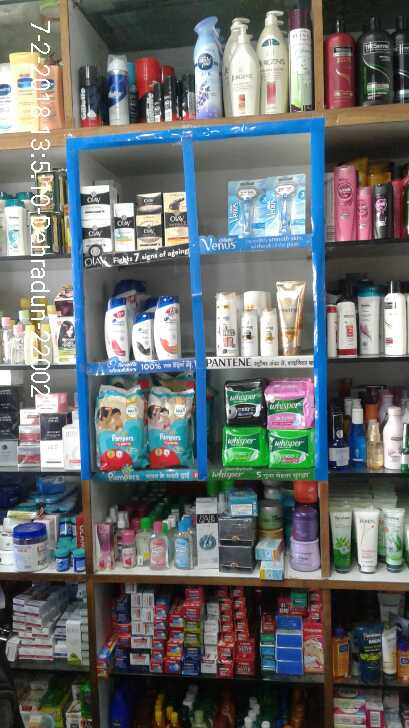ambipureVesus: (195, 14, 220, 118)
gillete: (110, 53, 128, 123), (79, 62, 98, 125), (137, 57, 154, 124), (164, 76, 178, 120), (181, 72, 194, 118), (156, 83, 161, 123)
venus: (266, 173, 305, 236), (229, 181, 266, 236)
